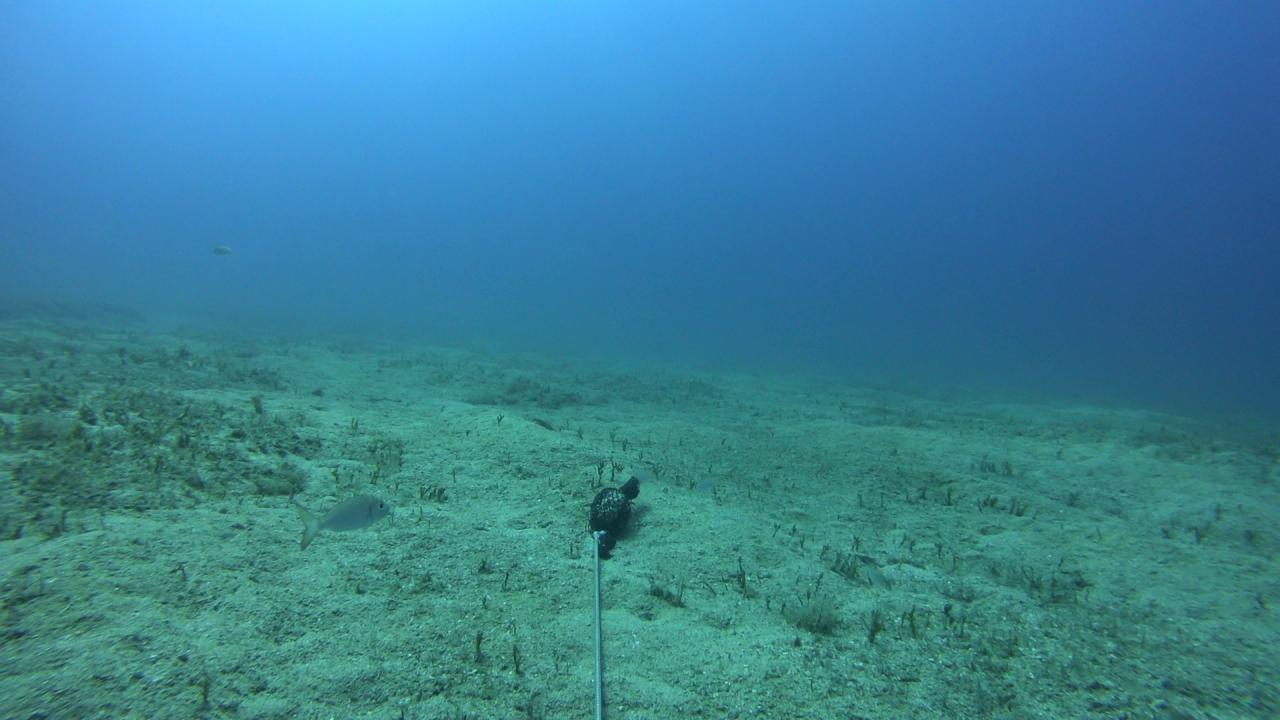pagellus: (293, 494, 388, 550)
